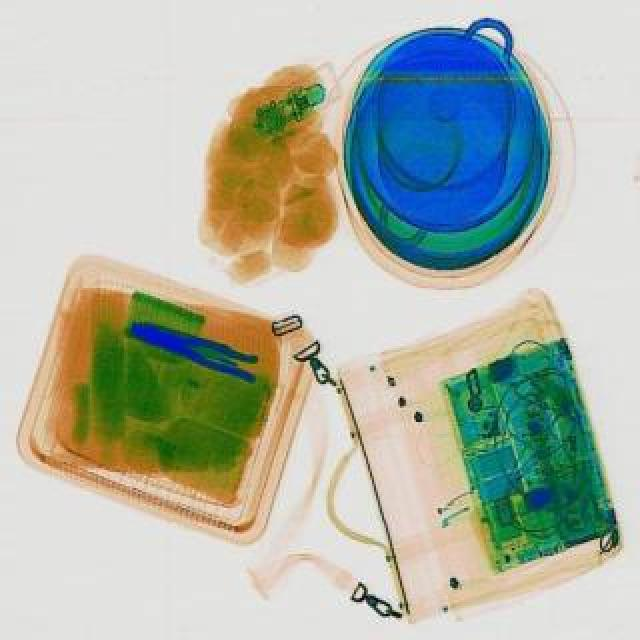wrench: (122, 308, 264, 384)
